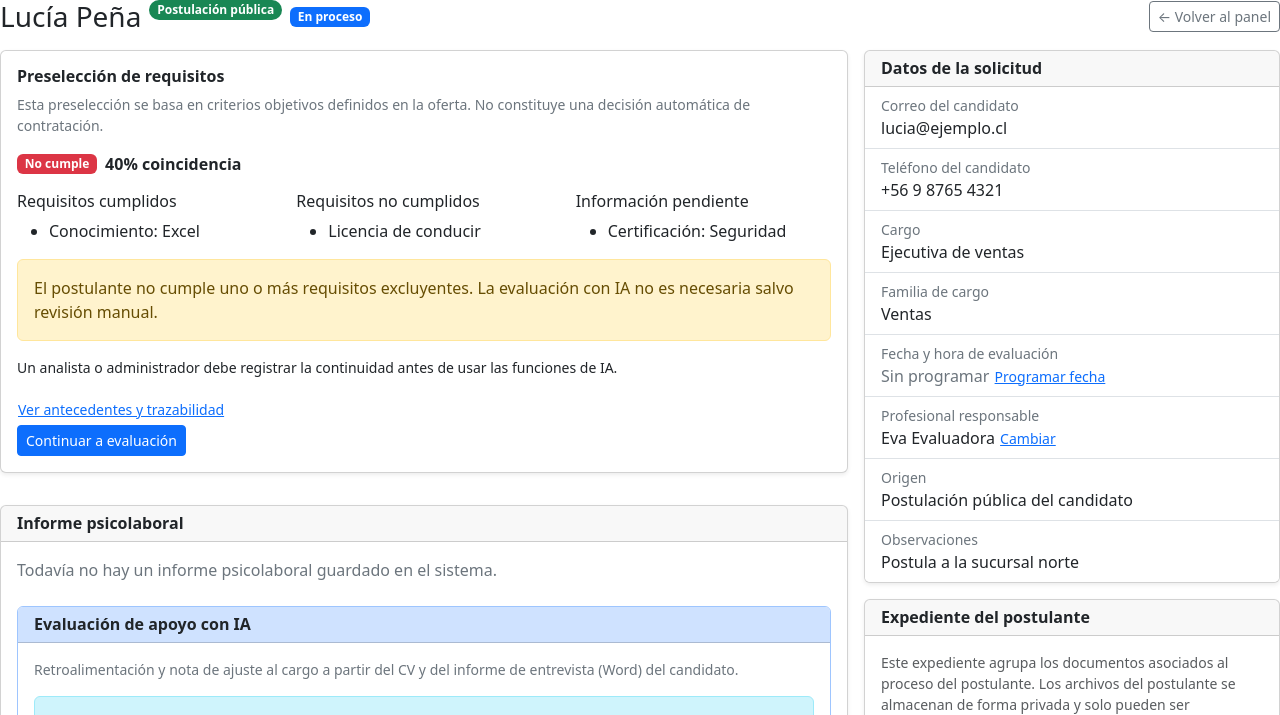
Scenario: SolicitudDetalle › explica los criterios y autoriza continuidad mediante una acción explícita sin generar IA
The width and height of the screenshot is (1280, 715).
Expected: the heading "Datos de la solicitud" is shown, left=881, top=57, right=1042, bottom=79
Expected: the heading "Preselección de requisitos" is shown, left=17, top=65, right=224, bottom=87
Click the button "Continuar a evaluación" at (101, 440), box left=17, top=425, right=186, bottom=456
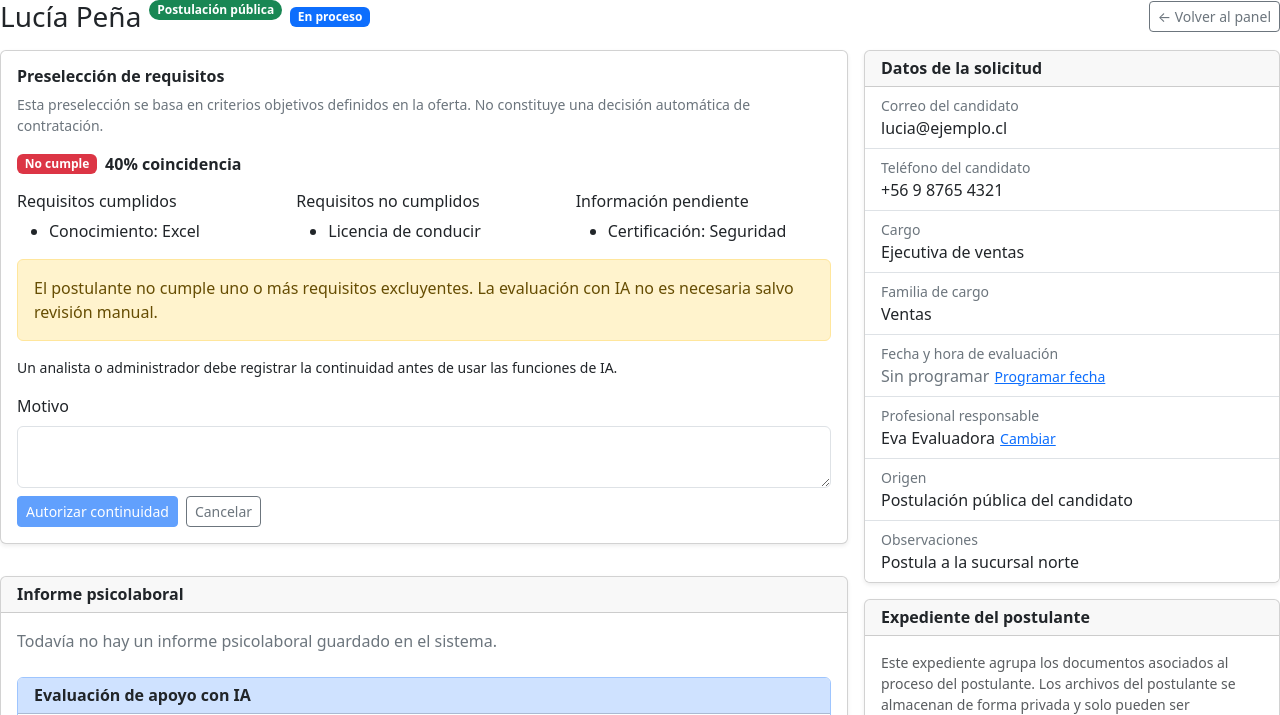
Type "Verificar antecedentes" into the text box labelled "Motivo" at (424, 457), box left=17, top=426, right=831, bottom=488
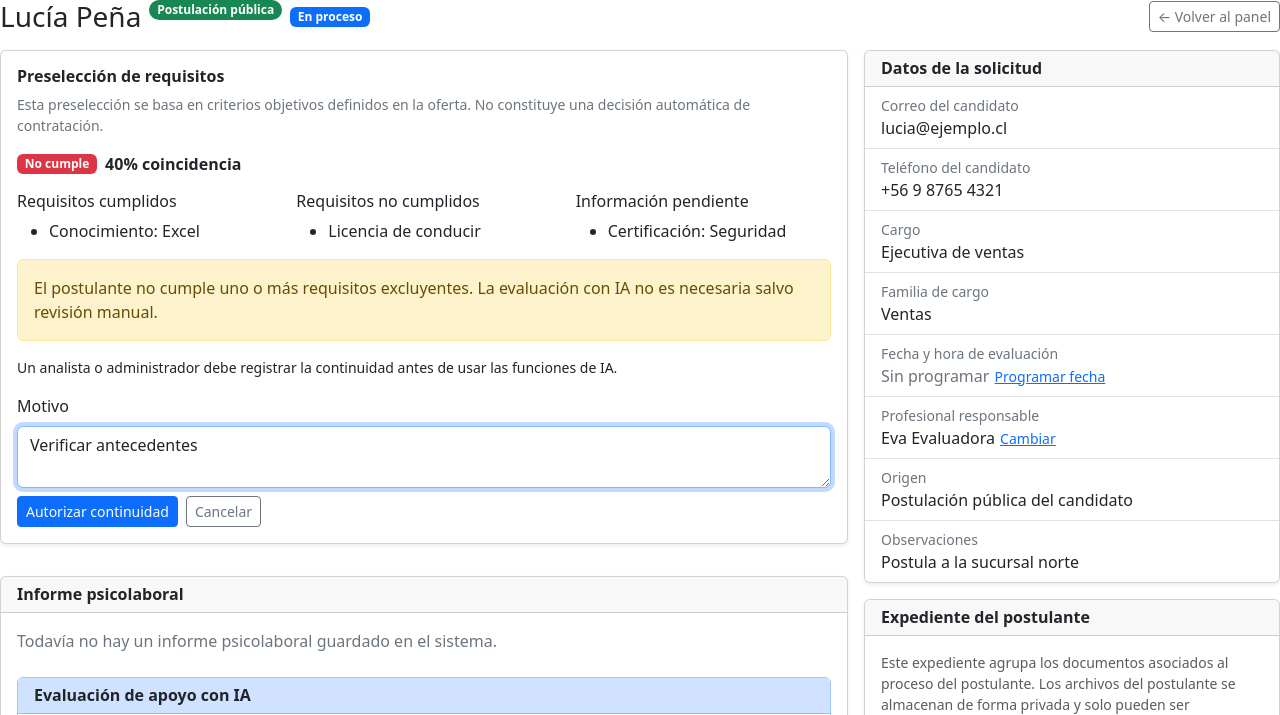
Click the button "Autorizar continuidad" at (97, 512), box left=17, top=496, right=178, bottom=527
(page scrolled)
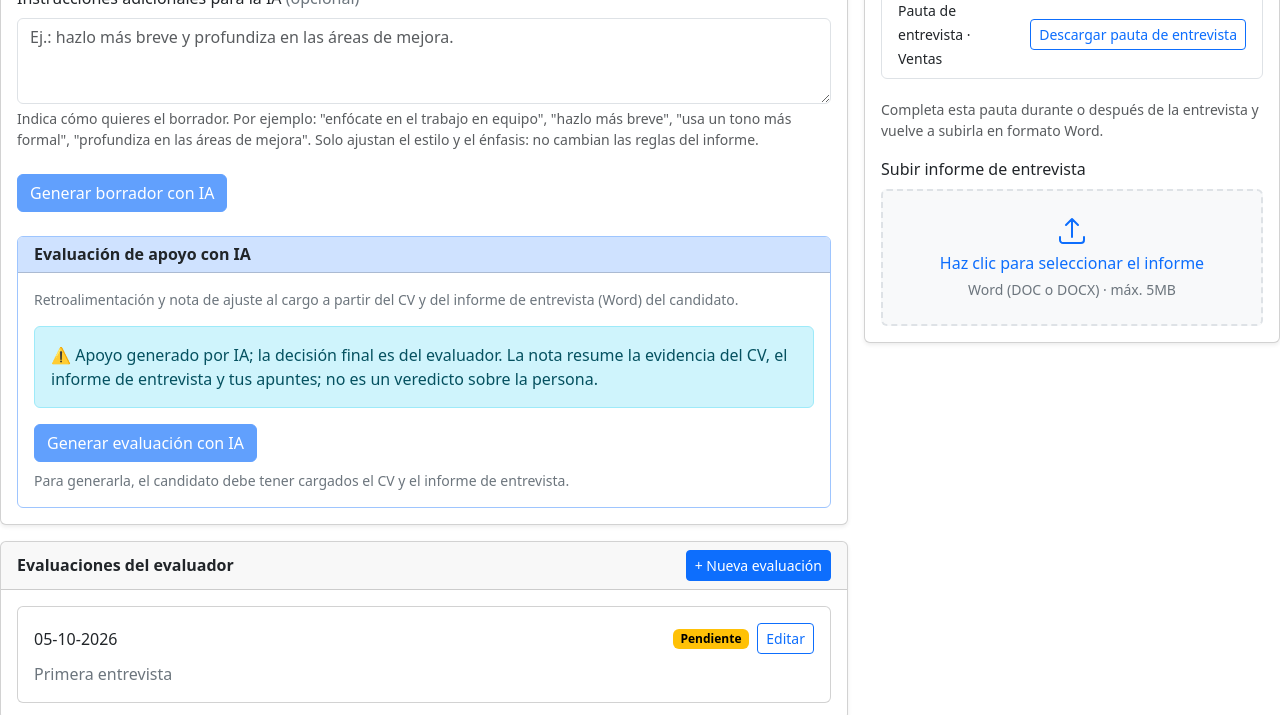
Expected: the button "Generar evaluación con IA" is shown, left=34, top=424, right=257, bottom=462
